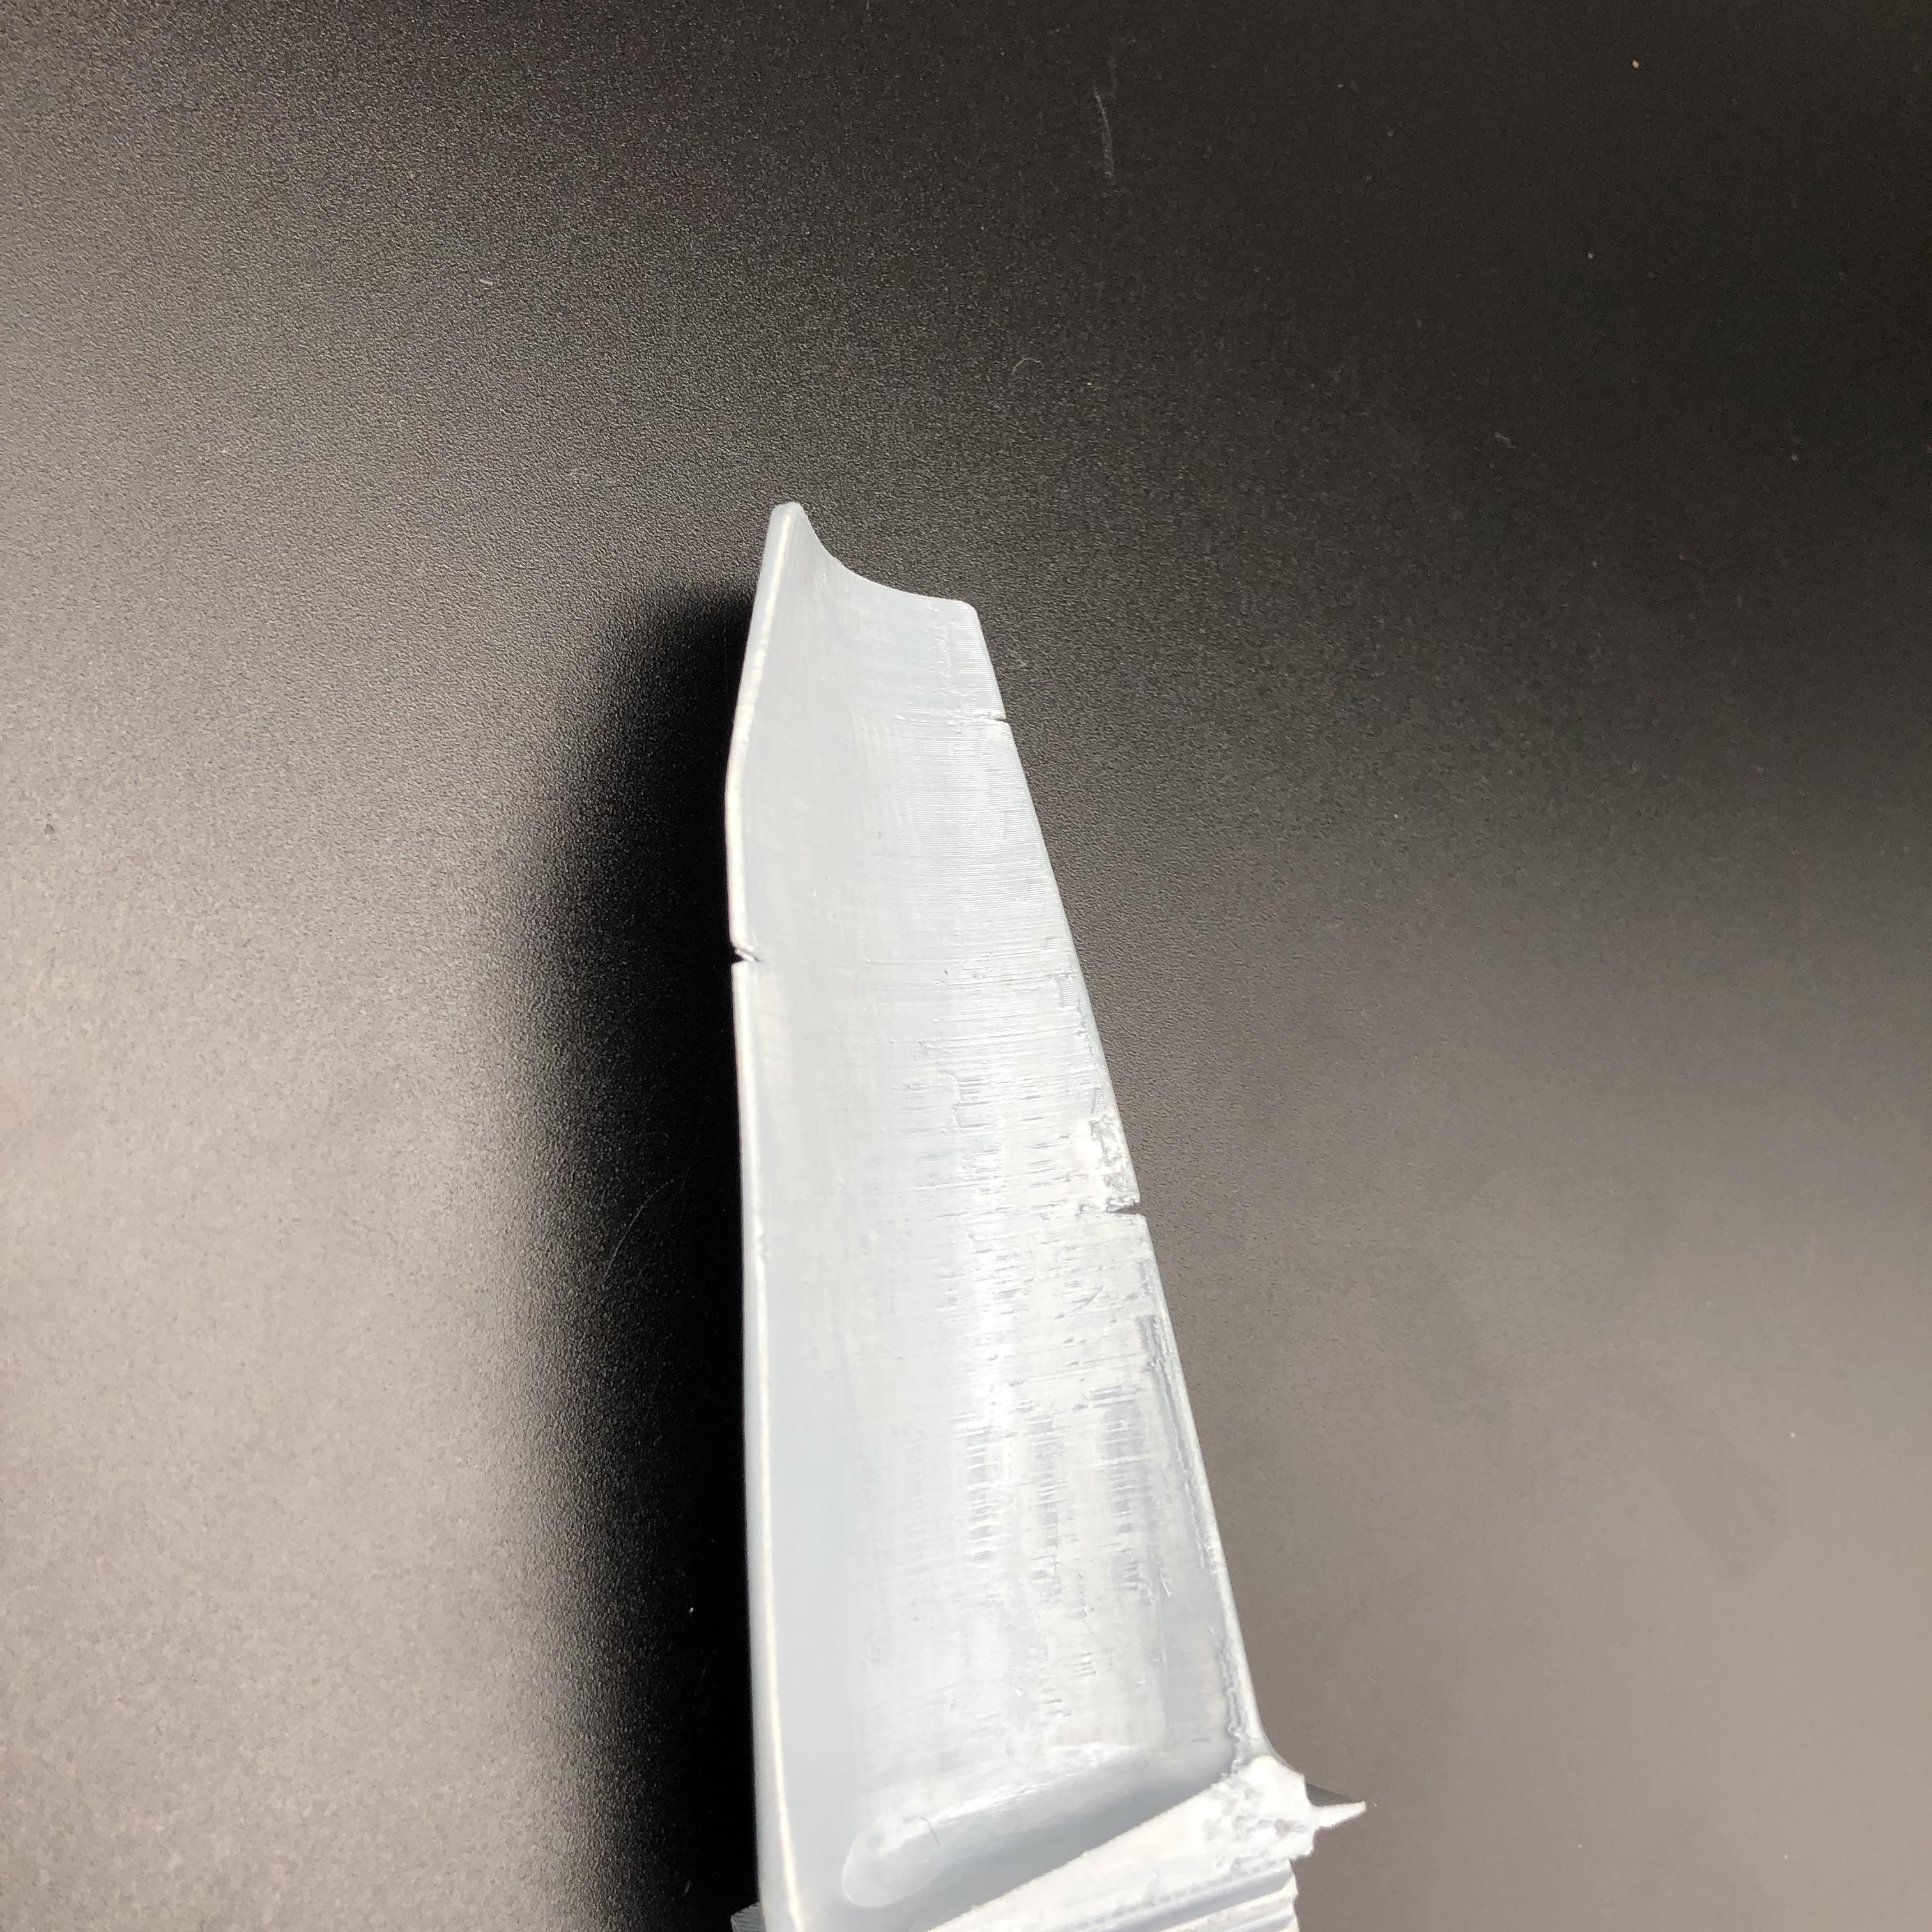groove: (1102, 1187, 1150, 1221), (727, 941, 771, 977), (982, 708, 1010, 727)
